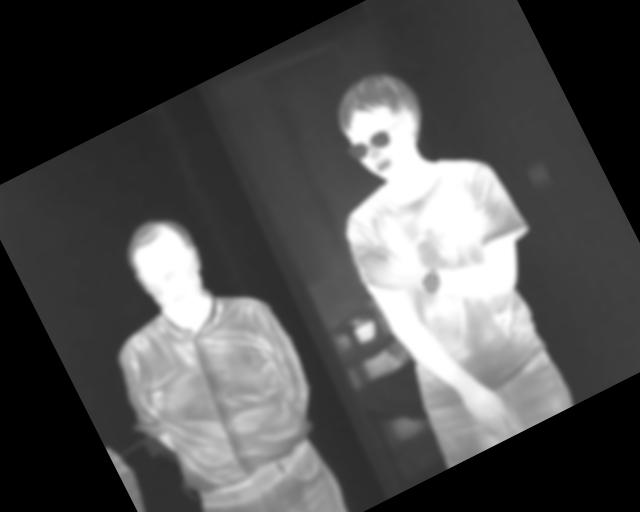face: (321, 59, 445, 193), (112, 205, 221, 328)
